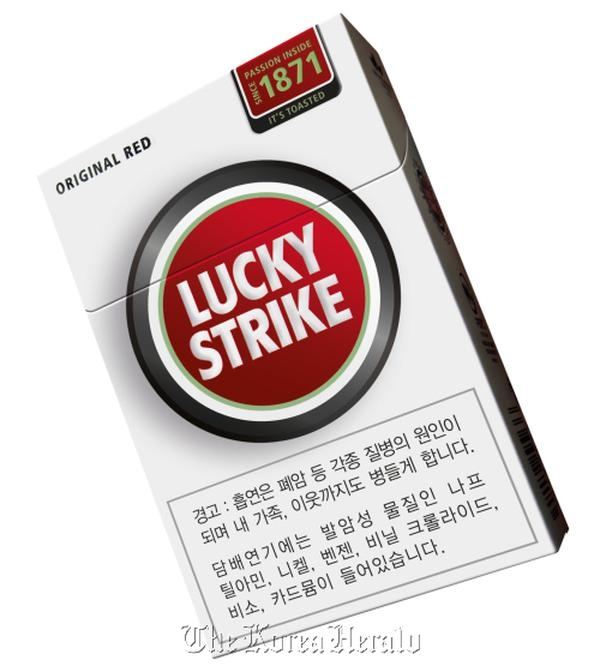lucky_strike_red: (115, 69, 410, 612)
